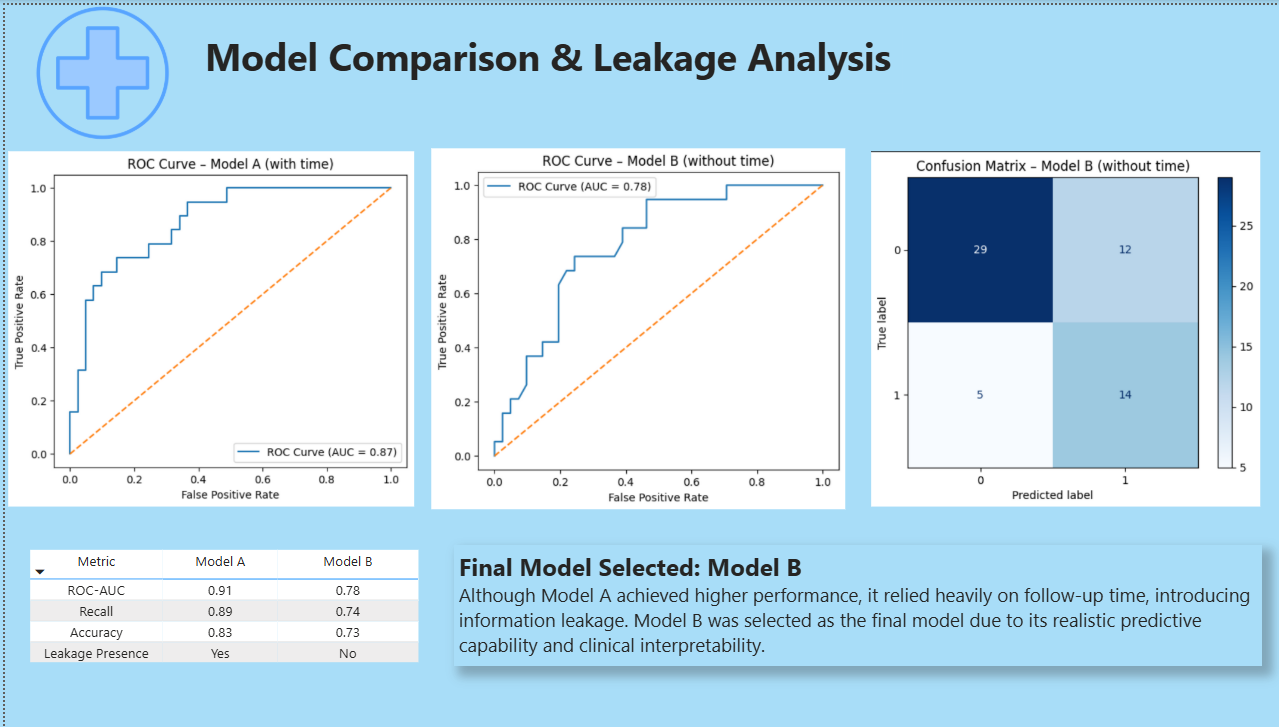

What the dashboard file says about the page in this screenshot:
{"tool":"powerbi","page":{"name":" MODEL COMPARISON","canvas":[1280,720],"ordinal":3},"visuals":[{"type":"image","box":[0,0,194.1,135.6],"z":0},{"type":"textbox","box":[194.1,21.1,699.1,67.2],"z":1000},{"type":"tableEx","fields":{"Values":["Model Performance Summary.Metric","Model Performance Summary.Model A ","Model Performance Summary.Model B"]},"box":[18.7,537.4,405.5,130.6],"z":2000},{"type":"image","box":[0,145.5,410.5,353.3],"z":3000},{"type":"image","box":[424.2,141.8,411.8,360.7],"z":4000},{"type":"image","box":[859.6,145.5,391.8,353.3],"z":5000},{"type":"textbox","box":[446.6,537.4,804.8,120.7],"z":6000}]}

Visuals, with their boxes in screenshot pixels (x1, y1, x2, y2), scaled from the page's 1280x720 canvas onto the 1279x727 screenshot:
image: <region>0, 0, 194, 137</region>
textbox: <region>194, 21, 893, 89</region>
tableEx - Model Performance Summary.Metric x Model Performance Summary.Model A : <region>19, 543, 424, 674</region>
image: <region>0, 147, 410, 504</region>
image: <region>424, 143, 835, 507</region>
image: <region>859, 147, 1250, 504</region>
textbox: <region>446, 543, 1250, 664</region>
